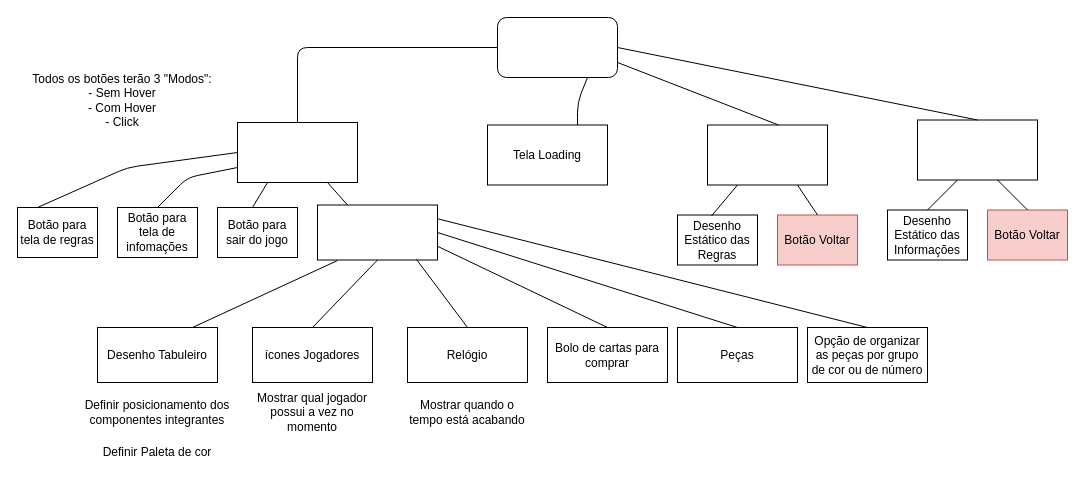
Some shapes in this 1085 by 480 pixel diagram are drawn without their labels. Here are the shapes that lost their labels. From the top down, the centre of each, then its label:
point 557,47: Layout
point 297,152: Tela Menu Prncipal
point 767,154: Tela Regras
point 977,149: Tela Informações
point 377,232: Botão Jogar
